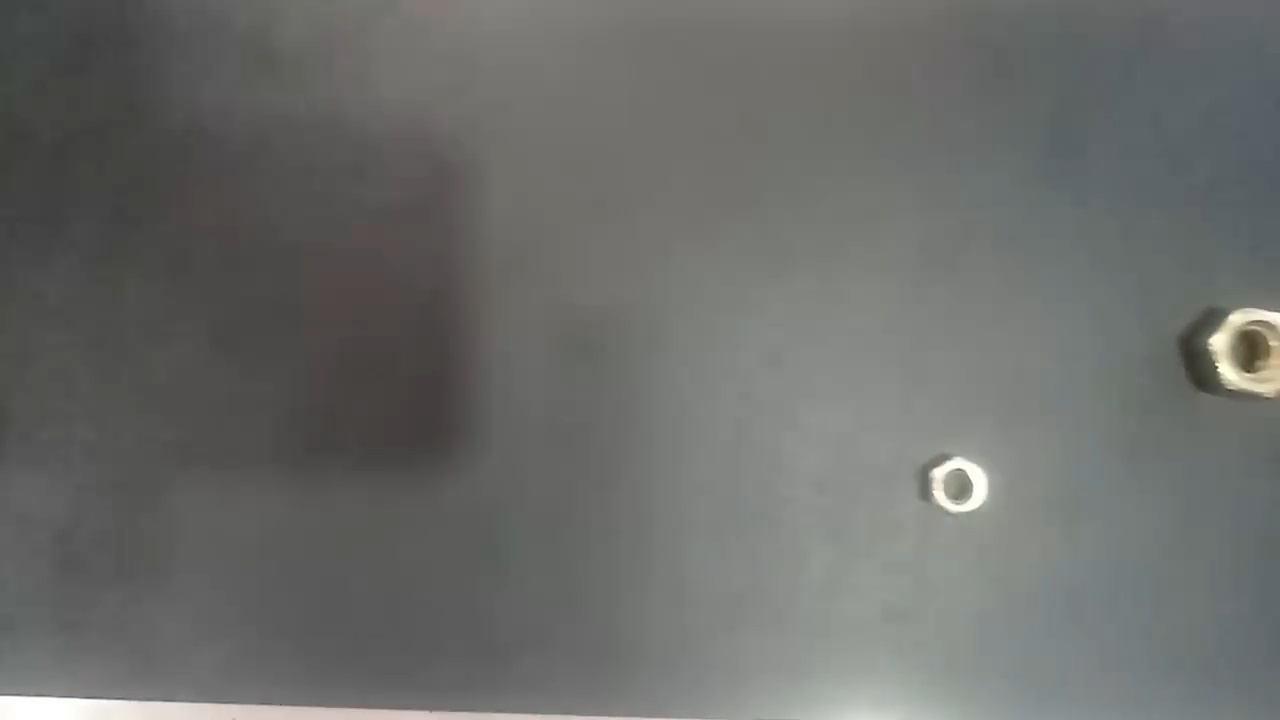Bolt: (1192, 302, 1280, 400), (927, 454, 990, 514)
